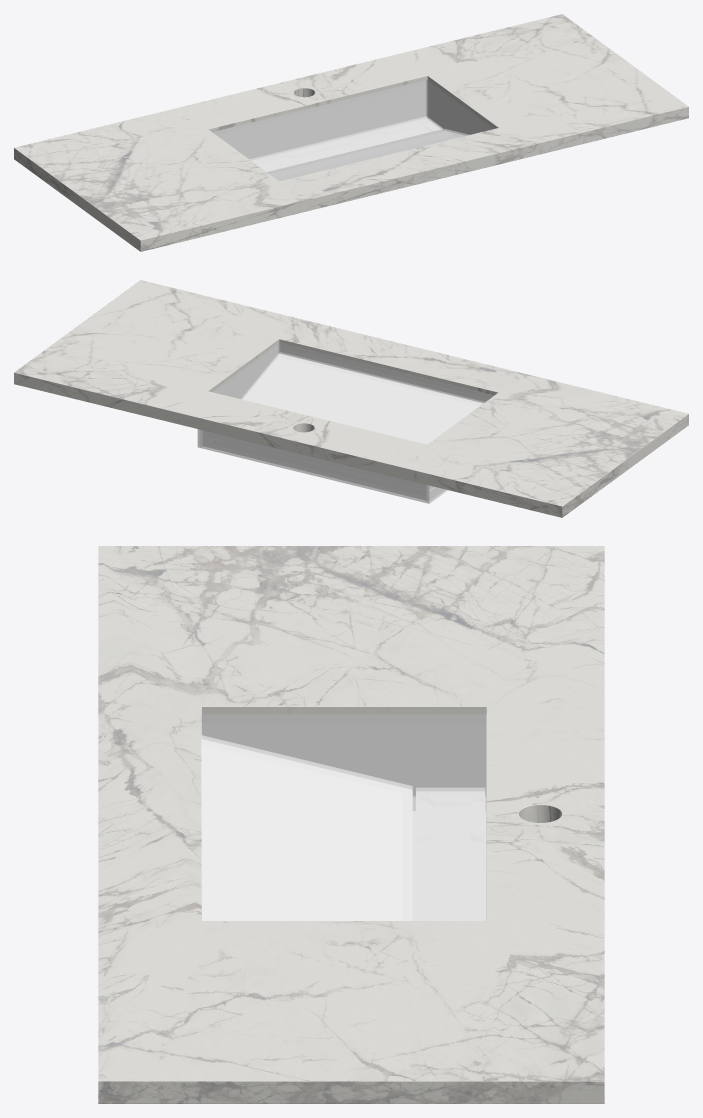
File: GLS912_1.glb
3 views of the same model, one above another, from view 1: azimuth 30°, elevation 25°; view 2: azimuth 150°, elevation 25°; view 3: azimuth 270°, elevation 25° (orthographic). The views are drawn at different scales.
Parts seen in each view (by area): view 1: GLS 912|1 cer, GLS 912|1(встраиваемая); view 2: GLS 912|1 cer, GLS 912|1(встраиваемая); view 3: GLS 912|1 cer, GLS 912|1(встраиваемая).
Part boxes in pixels (x1,y1,x2,y2): GLS 912|1 cer: (14, 14, 688, 251); GLS 912|1(встраиваемая): (212, 79, 494, 181); GLS 912|1 cer: (14, 280, 688, 517); GLS 912|1(встраиваемая): (197, 343, 494, 503); GLS 912|1 cer: (98, 546, 604, 1103); GLS 912|1(встраиваемая): (201, 714, 486, 920).
Bounding box in the file's own units: 1.5 × 0.143 × 0.6.
3 materials, 1 textured.
